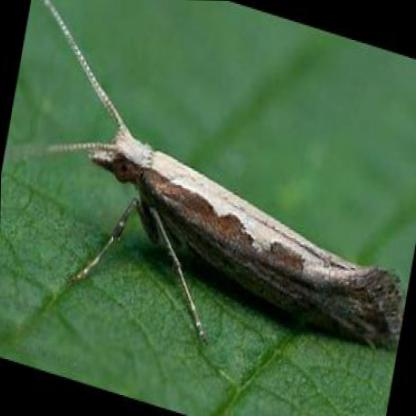plutella: (35, 0, 398, 355)
